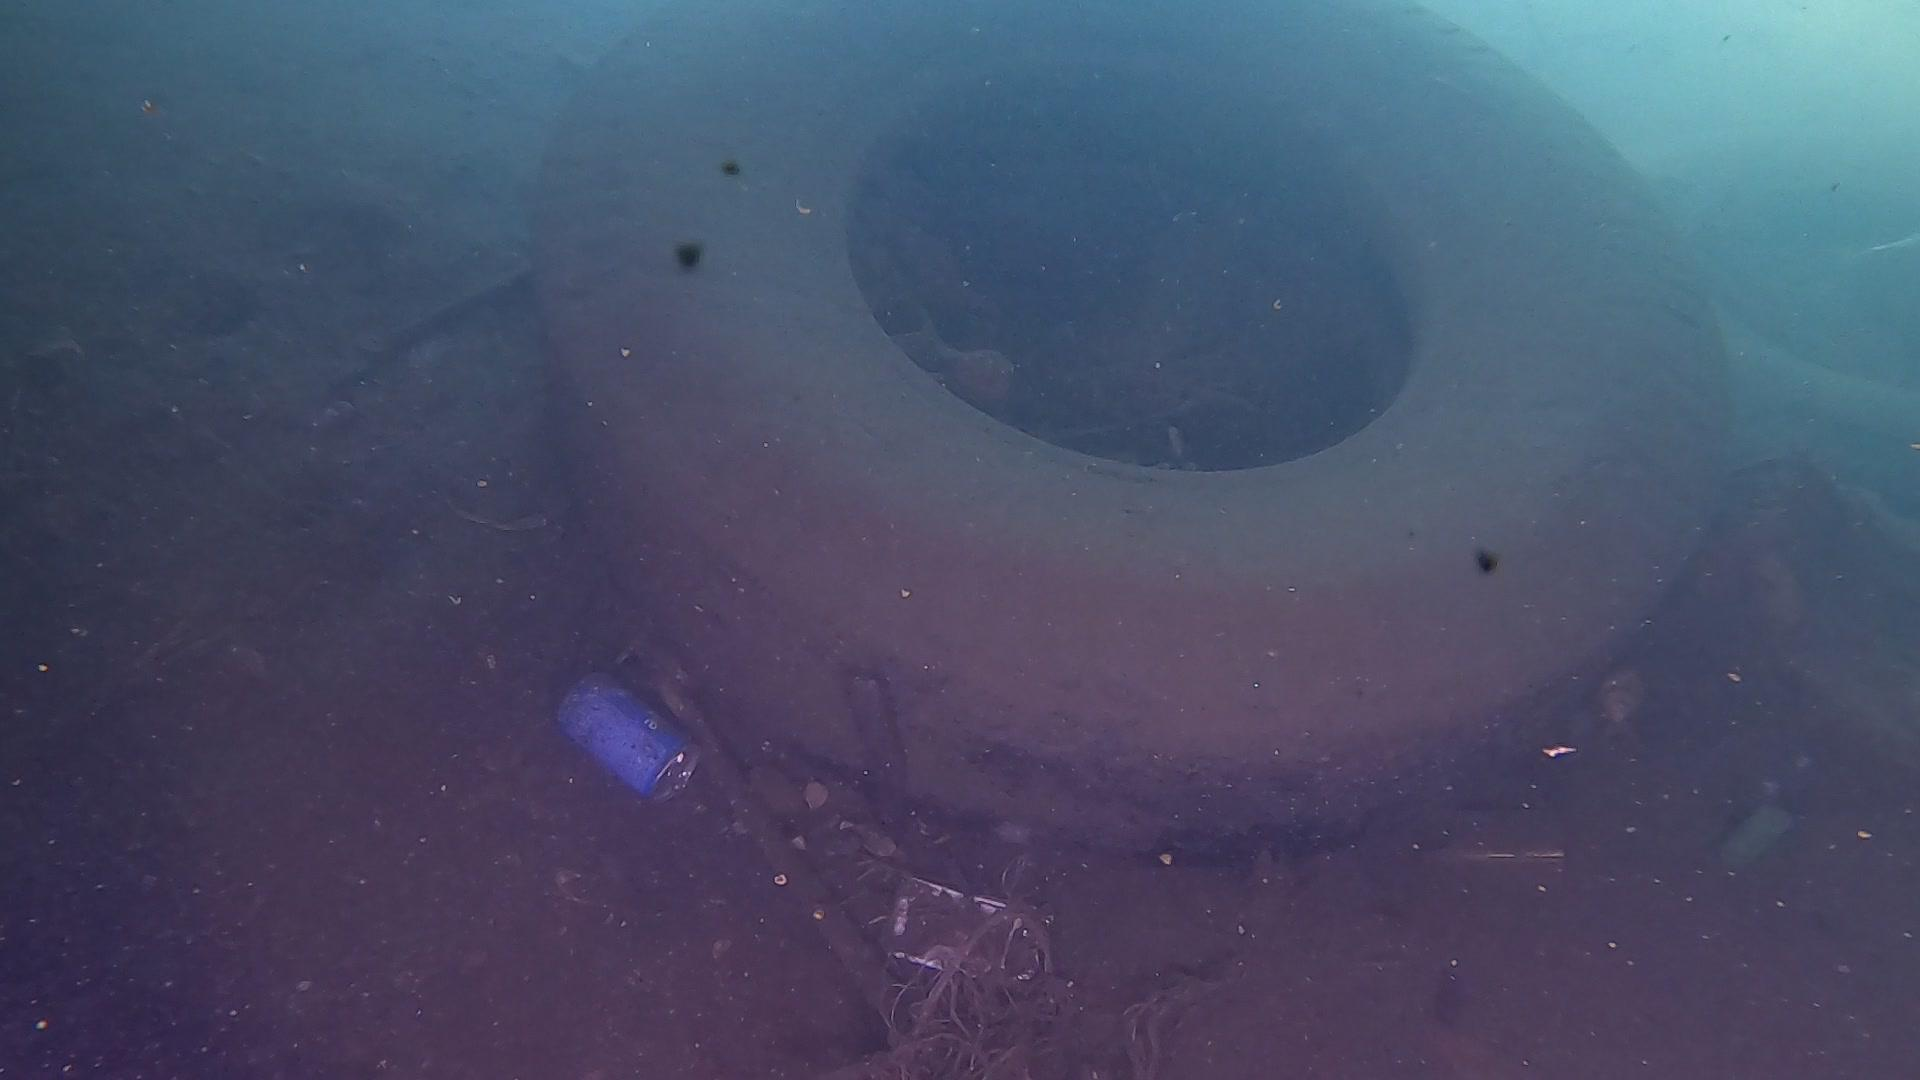tire: (520, 3, 1739, 855)
